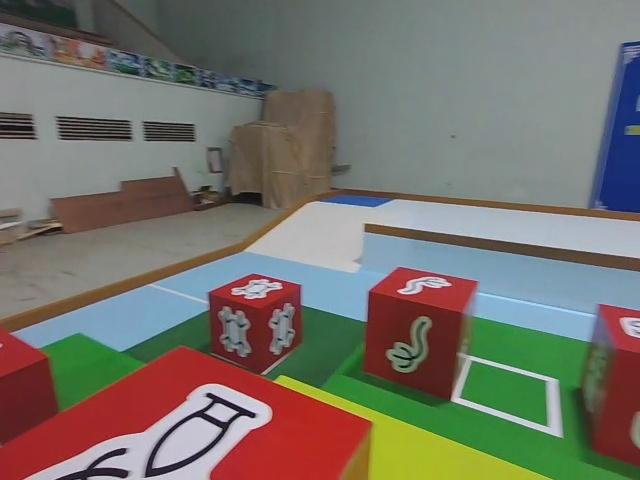R2 Real: (0, 343, 371, 480), (366, 266, 479, 404), (208, 272, 301, 373)
